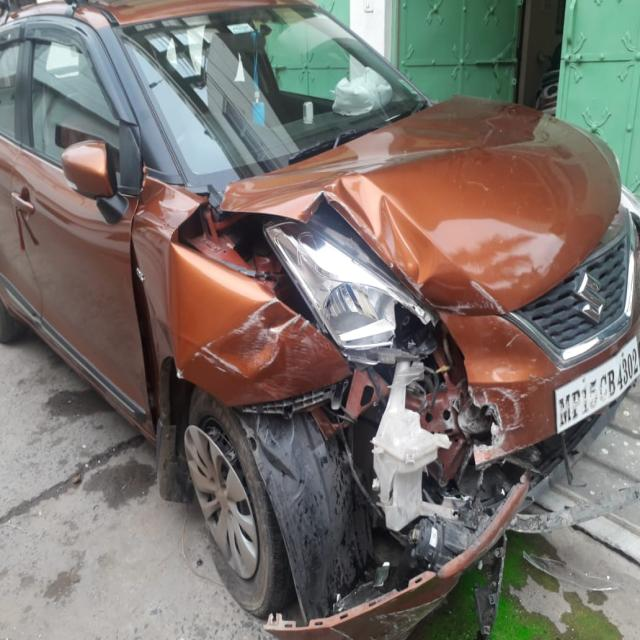damage: (212, 133, 620, 317), (128, 174, 329, 409), (264, 263, 489, 438), (423, 305, 557, 511)
